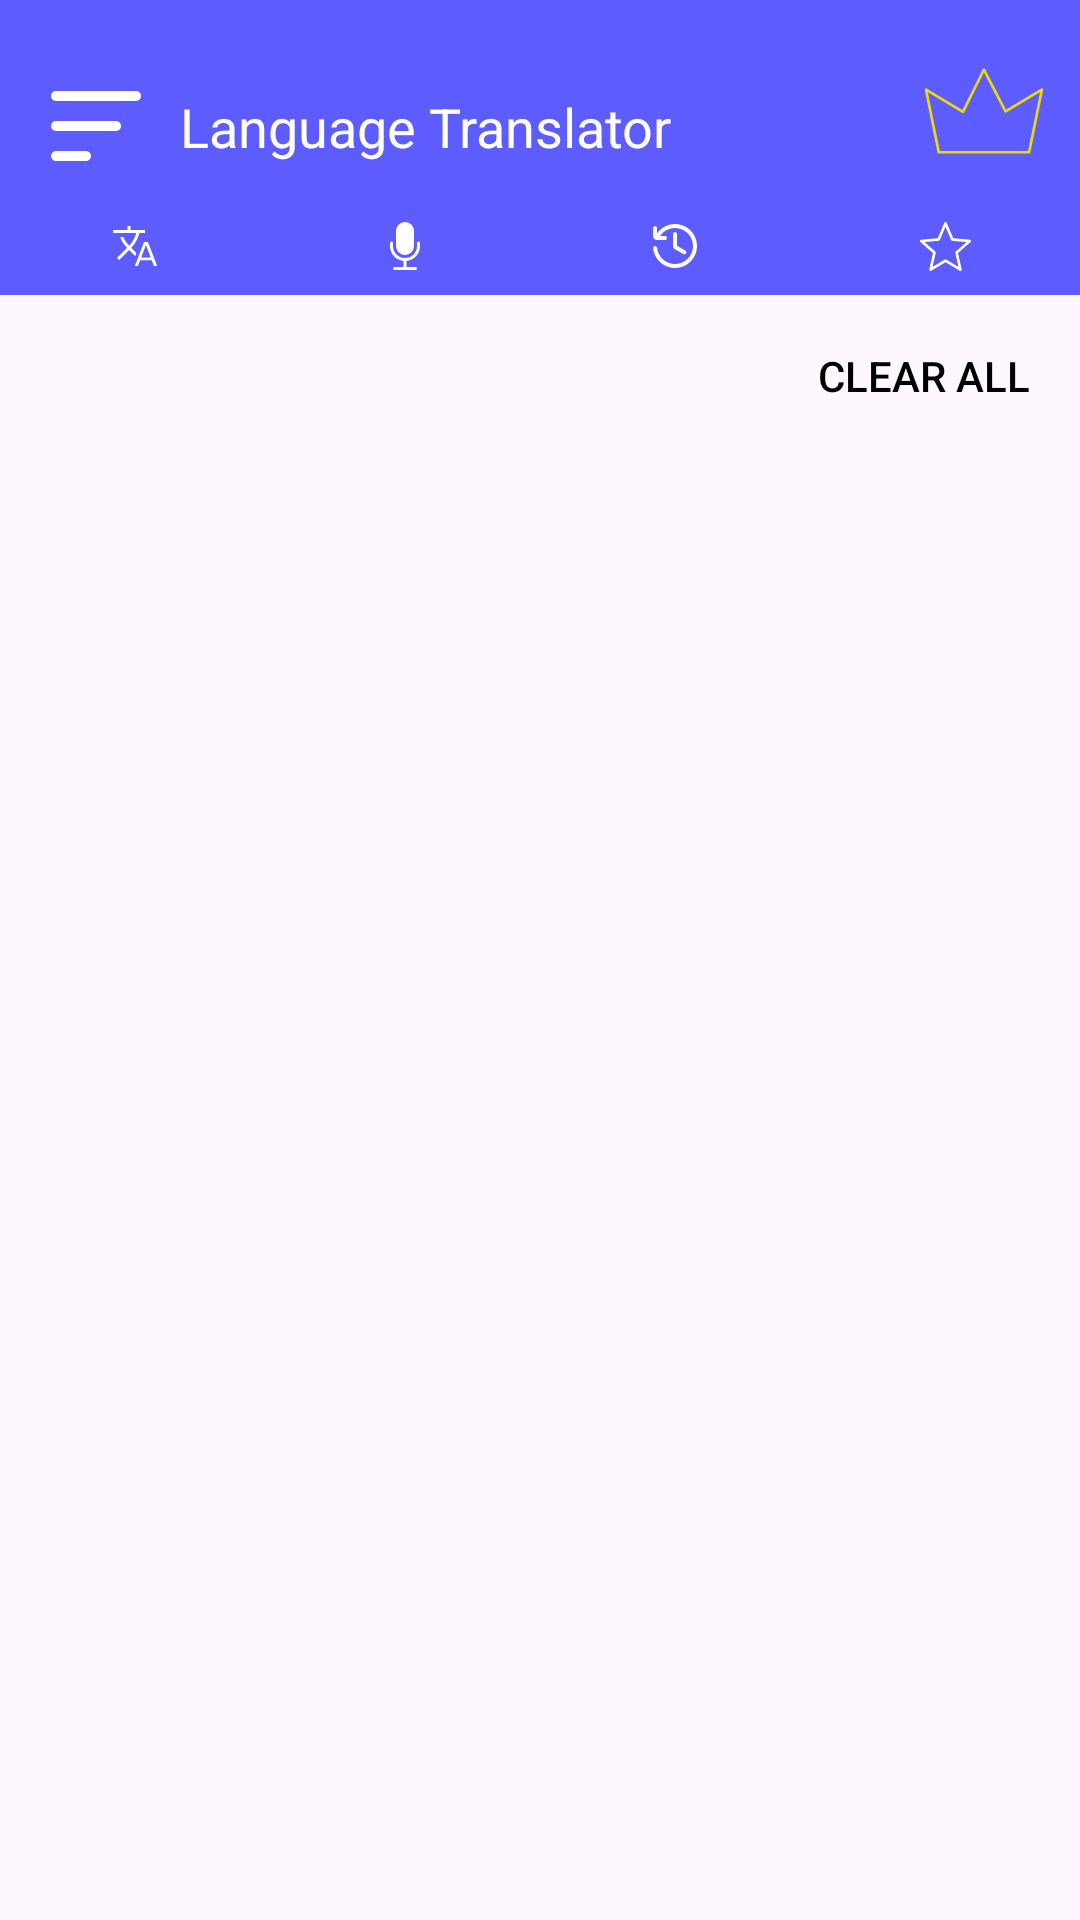

Named icons in this screenshot (1080w x 1920h) and their centers, (x=x, y=y):
crown hat: (x=984, y=111)
history: (x=675, y=246)
menu: (x=96, y=126)
mic: (x=405, y=246)
star: (x=945, y=246)
translate: (x=135, y=246)
